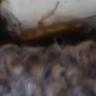cockroach: (18, 16, 82, 44)
